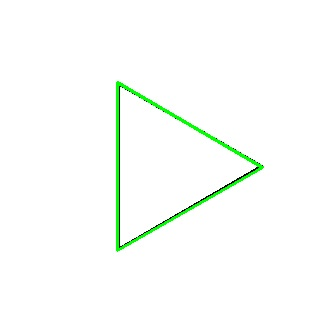line_segment: (116, 82, 263, 251)
